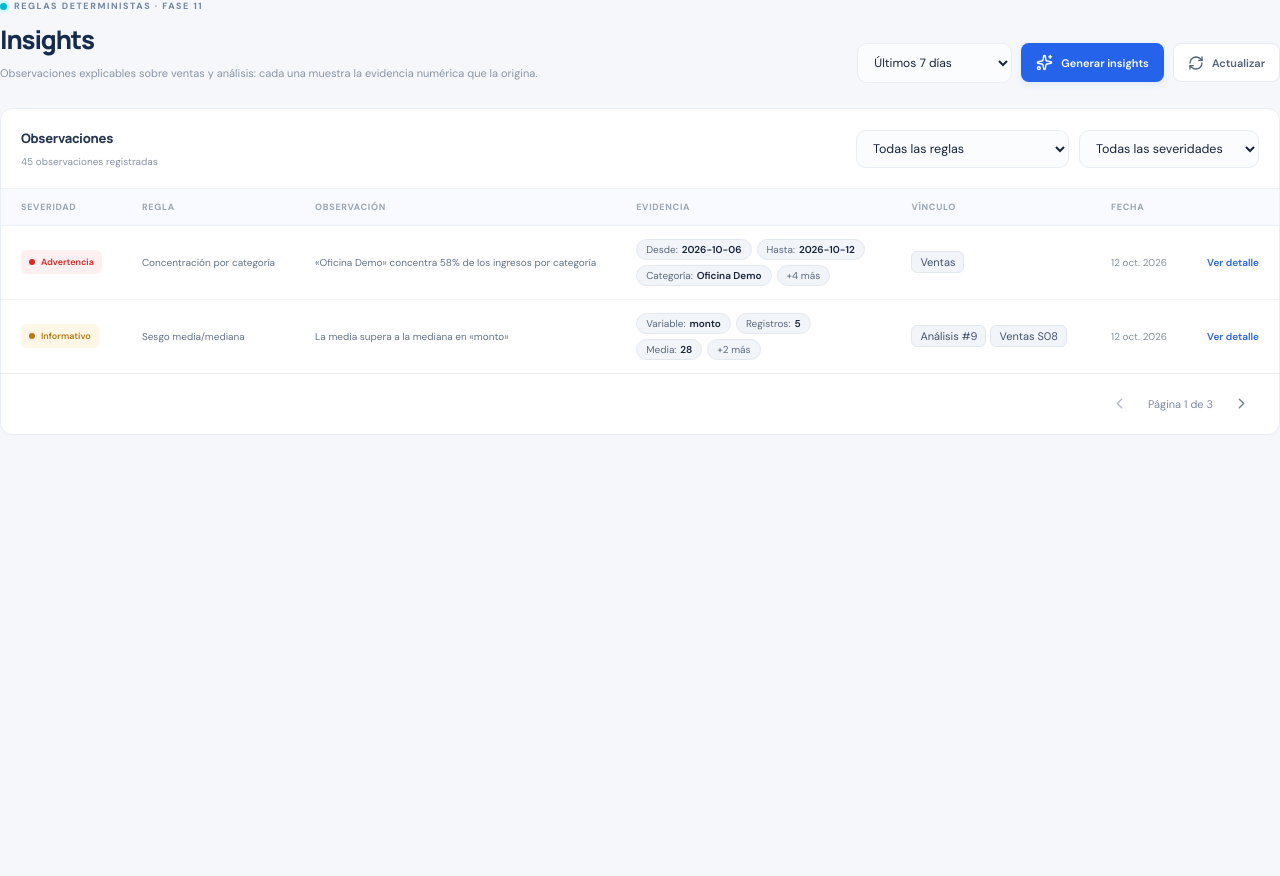
Test: InsightsPage › abre el detalle con la evidencia completa y el análisis de origen
The image size is (1280, 876).
Click the button "Ver detalle" in the row of "Informativo" at (1233, 336), box [1207, 325, 1259, 348]
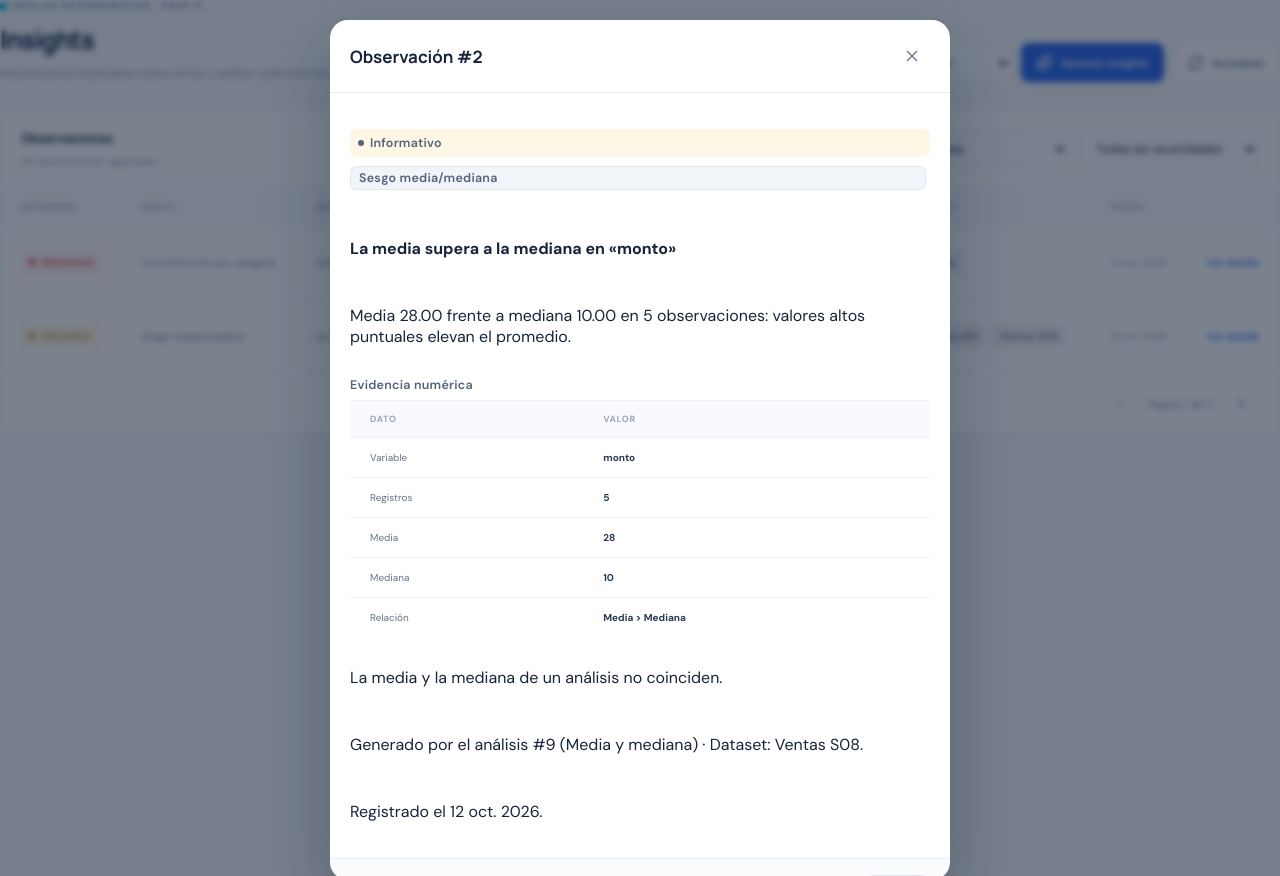
Result: the text "Media > Mediana" is shown at [583, 598, 930, 637]
Result: the text "Generado por el análisis #9 (Media y mediana) · Dataset: Ventas S08" is shown at [350, 734, 930, 755]
Result: the text "La media y la mediana de un análisis no coinciden." is shown at [350, 667, 722, 688]
